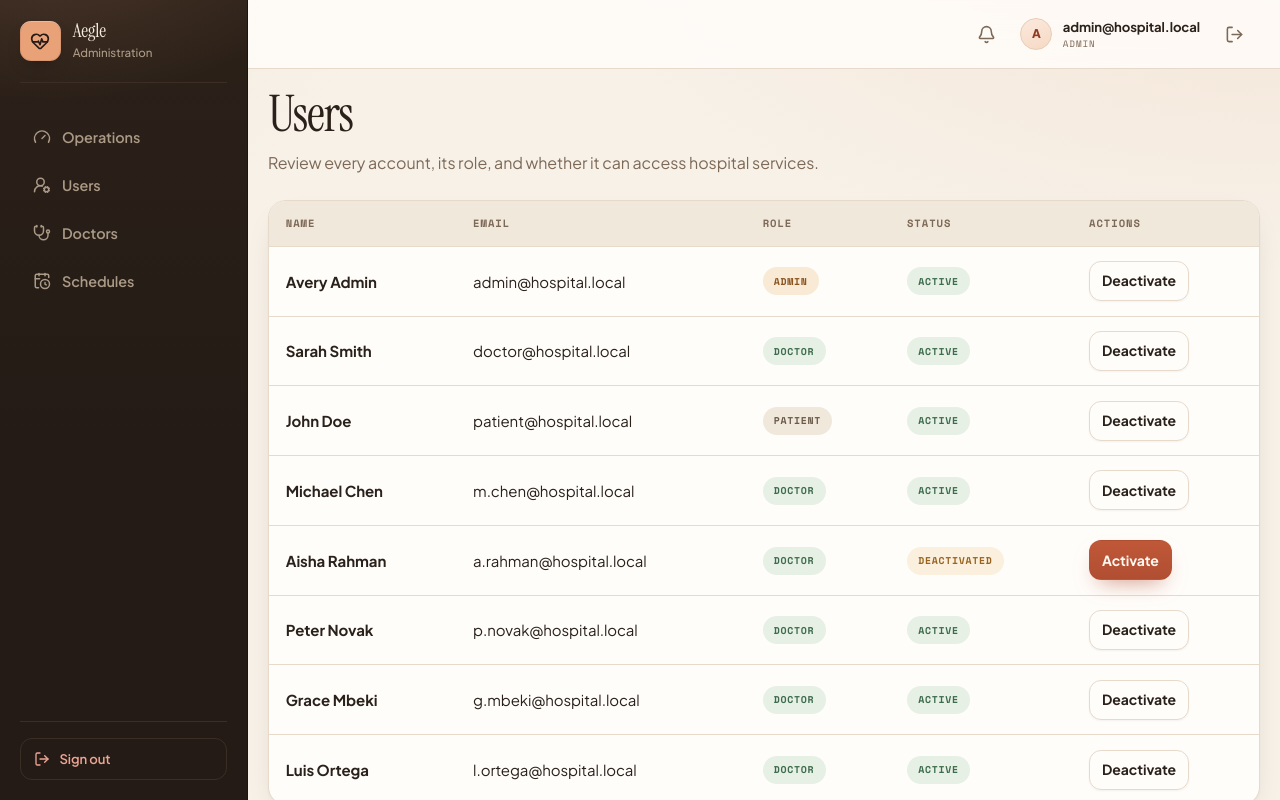
Test: administrator user management › asks for confirmation before deactivating an account
This screenshot has width=1280, height=800.
What coordinates should you click on to do the following:
click the button "Deactivate" in the row of "Avery Admin"
I would click on:
 (1139, 281)
Its box is [1089,261,1189,301].
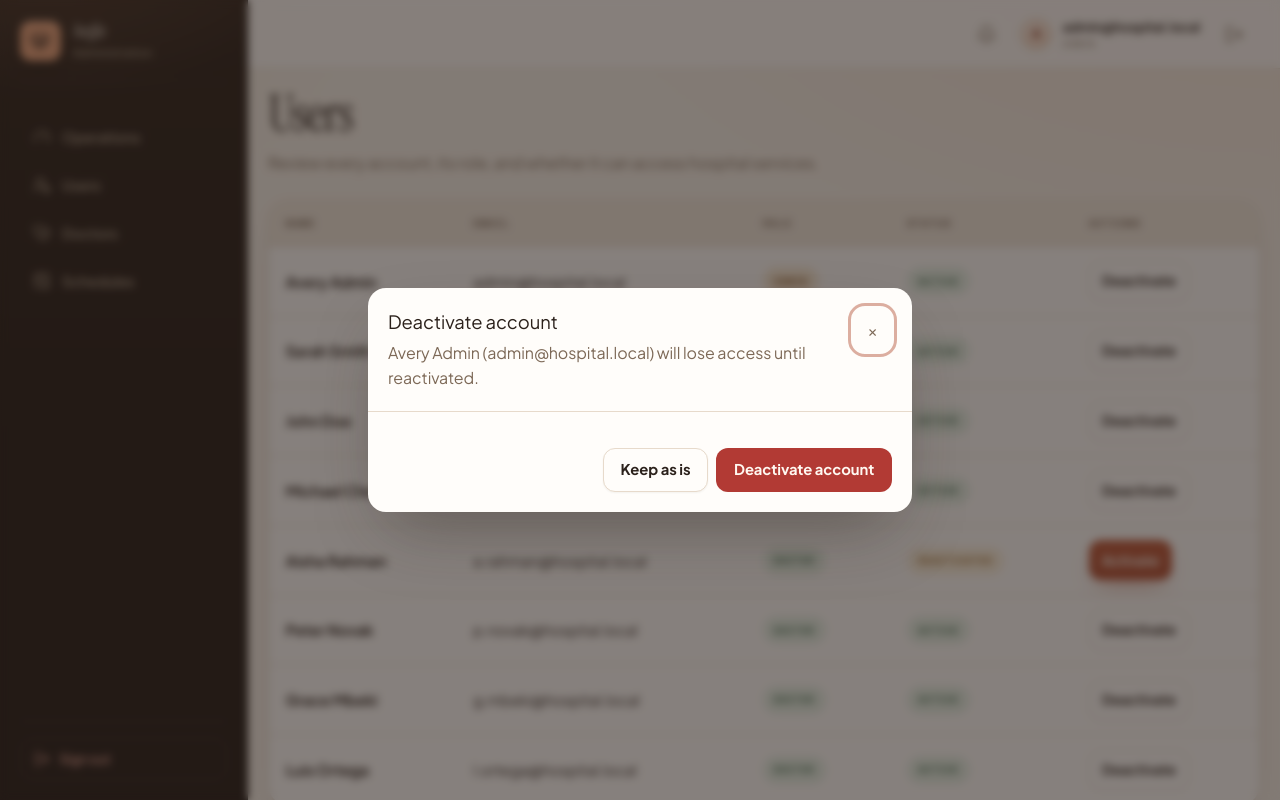
Now the dialog "Deactivate account" is shown, box [368,288,912,512]
Now the button "Deactivate account" is shown, box [716,448,892,492]
